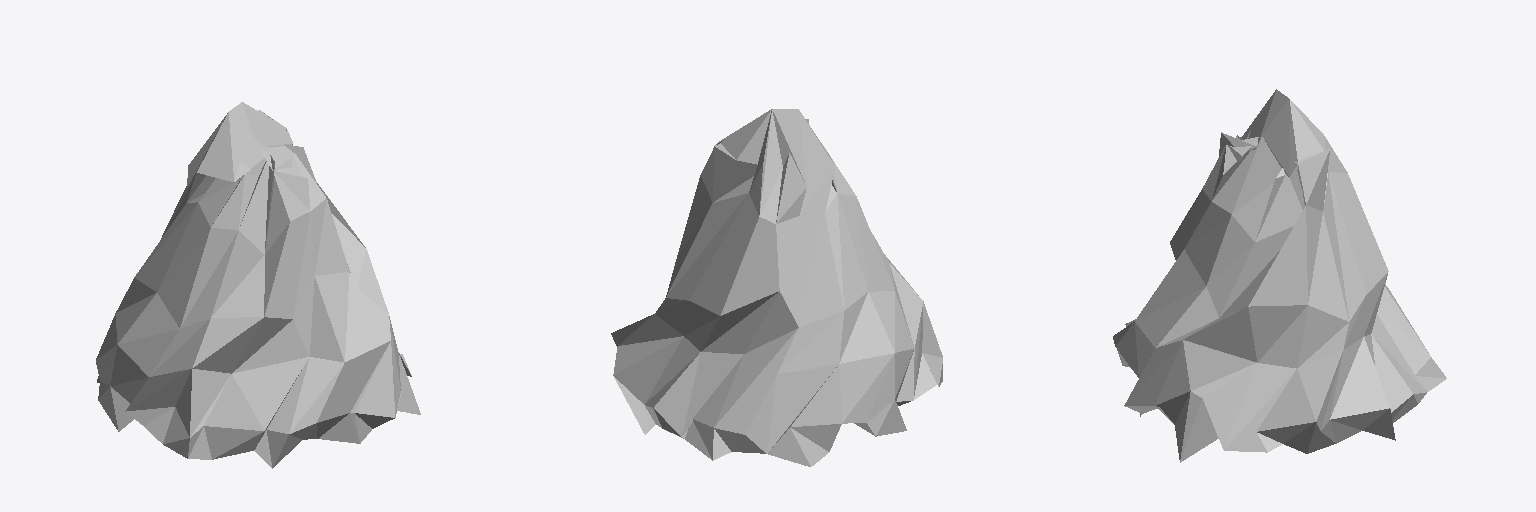
The model's file is cherry sauced.obj.
The picture shows the model from 3 angles: view 1: azimuth 30°, elevation 25°; view 2: azimuth 150°, elevation 25°; view 3: azimuth 270°, elevation 25°; orthographic projection.
Parts seen in each view (by area): view 1: cherry_sauced; view 2: cherry_sauced; view 3: cherry_sauced.
Part boxes in pixels (bbox=[...]): cherry_sauced: bbox=[96, 102, 420, 468]; cherry_sauced: bbox=[611, 109, 942, 466]; cherry_sauced: bbox=[1113, 89, 1446, 462].
Size of the model in its own units: 0.0925 by 0.0961 by 0.0953.